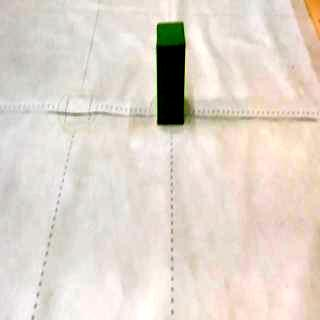greenbox: (157, 23, 185, 125)
